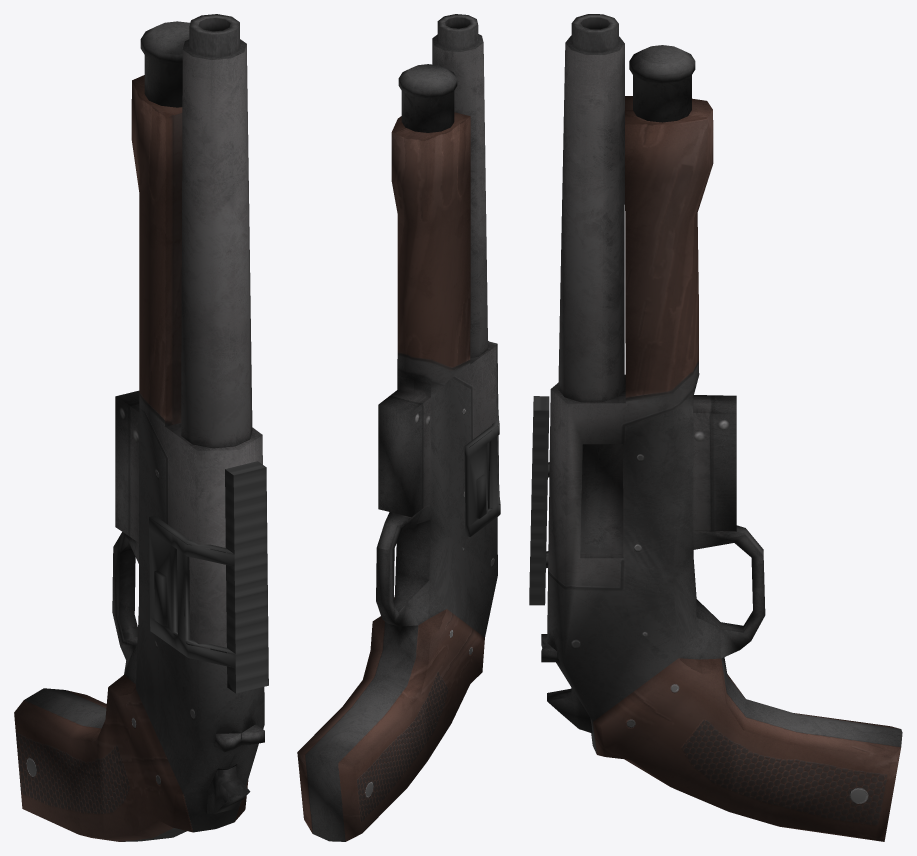
The model's file is TLOG_Shorty.fbx.
3 views of the same model, side by side, from view 1: azimuth 30°, elevation 25°; view 2: azimuth 150°, elevation 25°; view 3: azimuth 270°, elevation 25° (orthographic). The views are drawn at different scales.
Visible parts, largest first — view 1: shorty; view 2: shorty; view 3: shorty.
Boxes of the visible parts, left/top/right/bottom form: shorty: left=14, top=14, right=268, bottom=841; shorty: left=297, top=14, right=500, bottom=841; shorty: left=529, top=14, right=902, bottom=841.
Size of the model in its own units: 0.0272 by 0.2943 by 0.1223.
